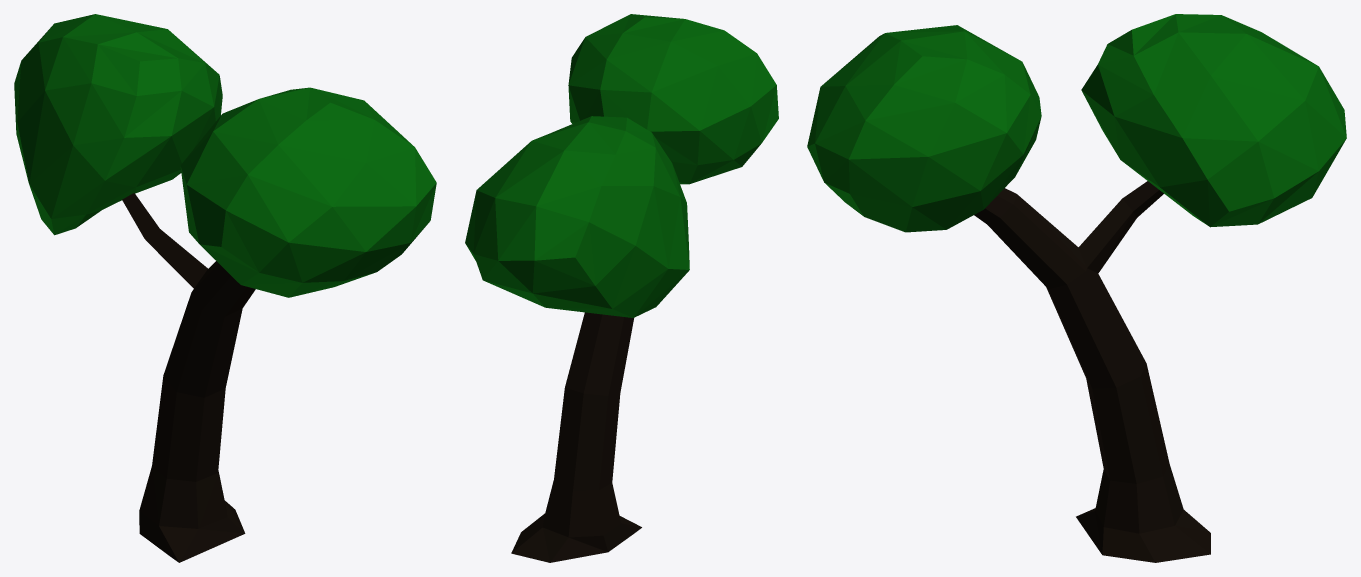
File: Weird Tree.FBX
3 renders of one model, left to right at view 1: azimuth 30°, elevation 25°; view 2: azimuth 150°, elevation 25°; view 3: azimuth 270°, elevation 25°, orthographic. The views are drawn at different scales.
Parts seen in each view (by area): view 1: Cylinder002; view 2: Cylinder002; view 3: Cylinder002.
Boxes of the visible parts, <box> form: Cylinder002: <box>14,14,436,562</box>; Cylinder002: <box>465,14,778,562</box>; Cylinder002: <box>807,14,1346,562</box>.
Bounding box in the file's own units: 59.7 × 117 × 115.
